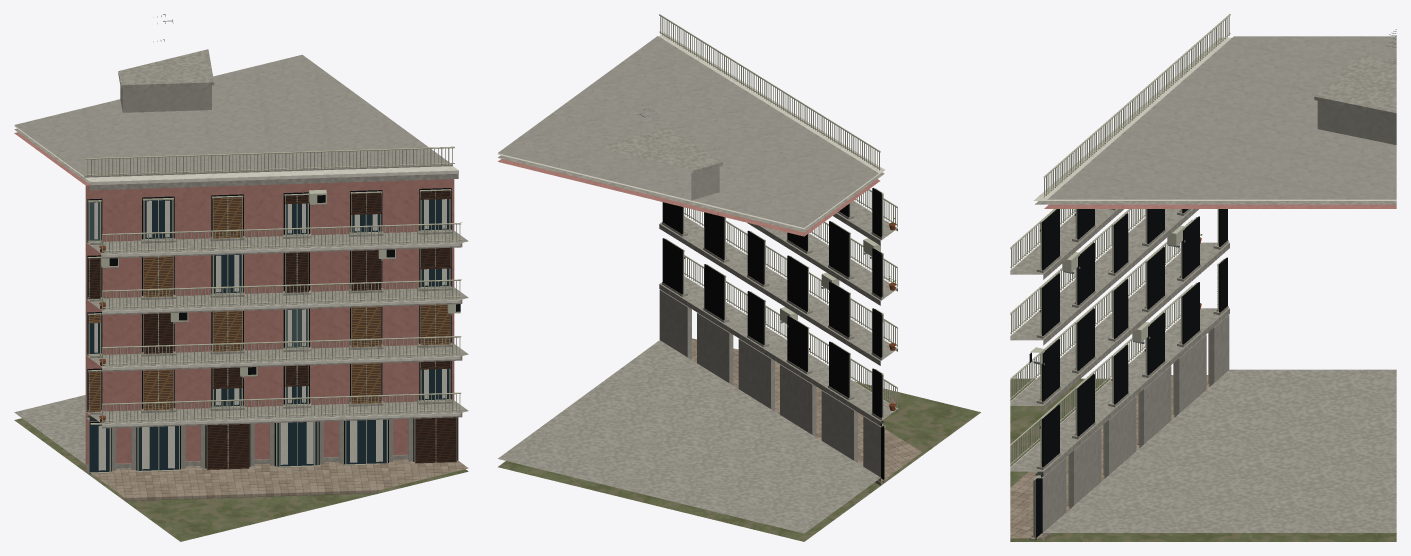
3 views of the same model, side by side, from view 1: azimuth 30°, elevation 25°; view 2: azimuth 150°, elevation 25°; view 3: azimuth 270°, elevation 25° (orthographic). The views are drawn at different scales.
Bounding box in the file's own units: 16 × 19.58 × 16.
Materials: 19 (8 with a texture image).
